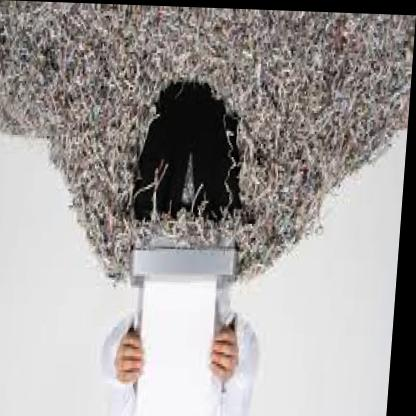Paper: (0, 0, 416, 355)
